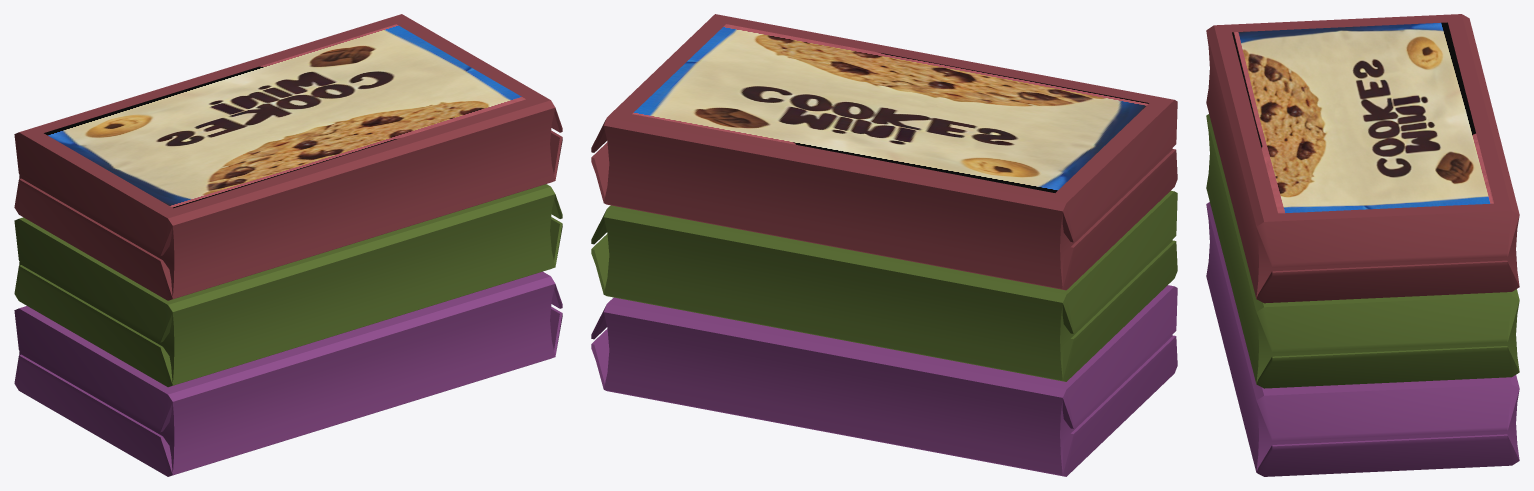
The model's file is candy boxes.fbx.
The picture shows the model from 3 angles, left to right: view 1: azimuth 30°, elevation 25°; view 2: azimuth 150°, elevation 25°; view 3: azimuth 270°, elevation 25°; orthographic projection. The views are drawn at different scales.
Visible parts, largest first — view 1: _gltfNode_10, _gltfNode_9, _gltfNode_8; view 2: _gltfNode_10, _gltfNode_9, _gltfNode_8; view 3: _gltfNode_10, _gltfNode_9, _gltfNode_8.
Part boxes in pixels (x1,y1,x2,y2): _gltfNode_10: (14,14,562,300); _gltfNode_9: (14,271,562,476); _gltfNode_8: (14,184,562,387); _gltfNode_10: (591,14,1177,290); _gltfNode_9: (591,285,1177,476); _gltfNode_8: (591,190,1177,381); _gltfNode_10: (1206,14,1519,303); _gltfNode_9: (1206,202,1519,476); _gltfNode_8: (1206,114,1519,388).
Bounding box in the file's own units: 345 × 189 × 210.
Materials: 3 (3 with a texture image).
